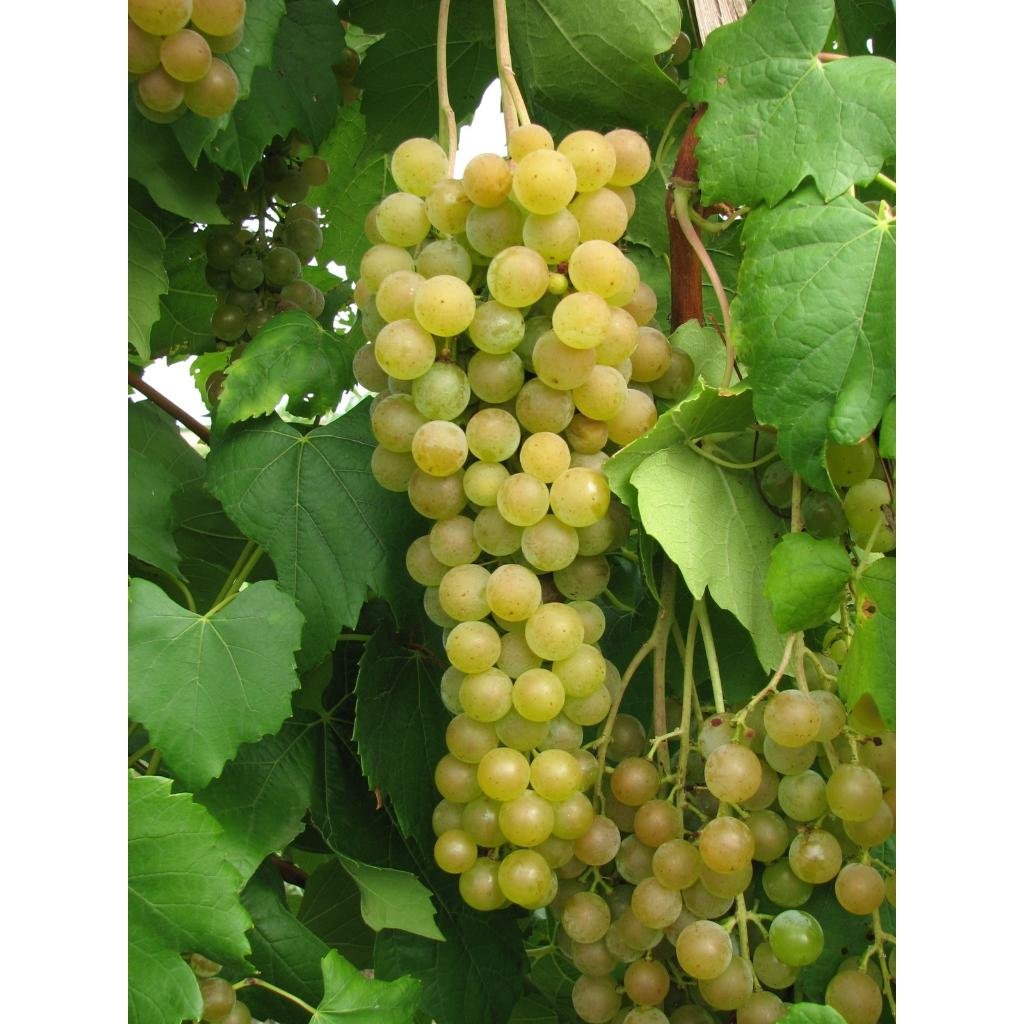grape: (353, 123, 893, 1023), (353, 121, 671, 909), (201, 136, 328, 346), (128, 0, 244, 122)
